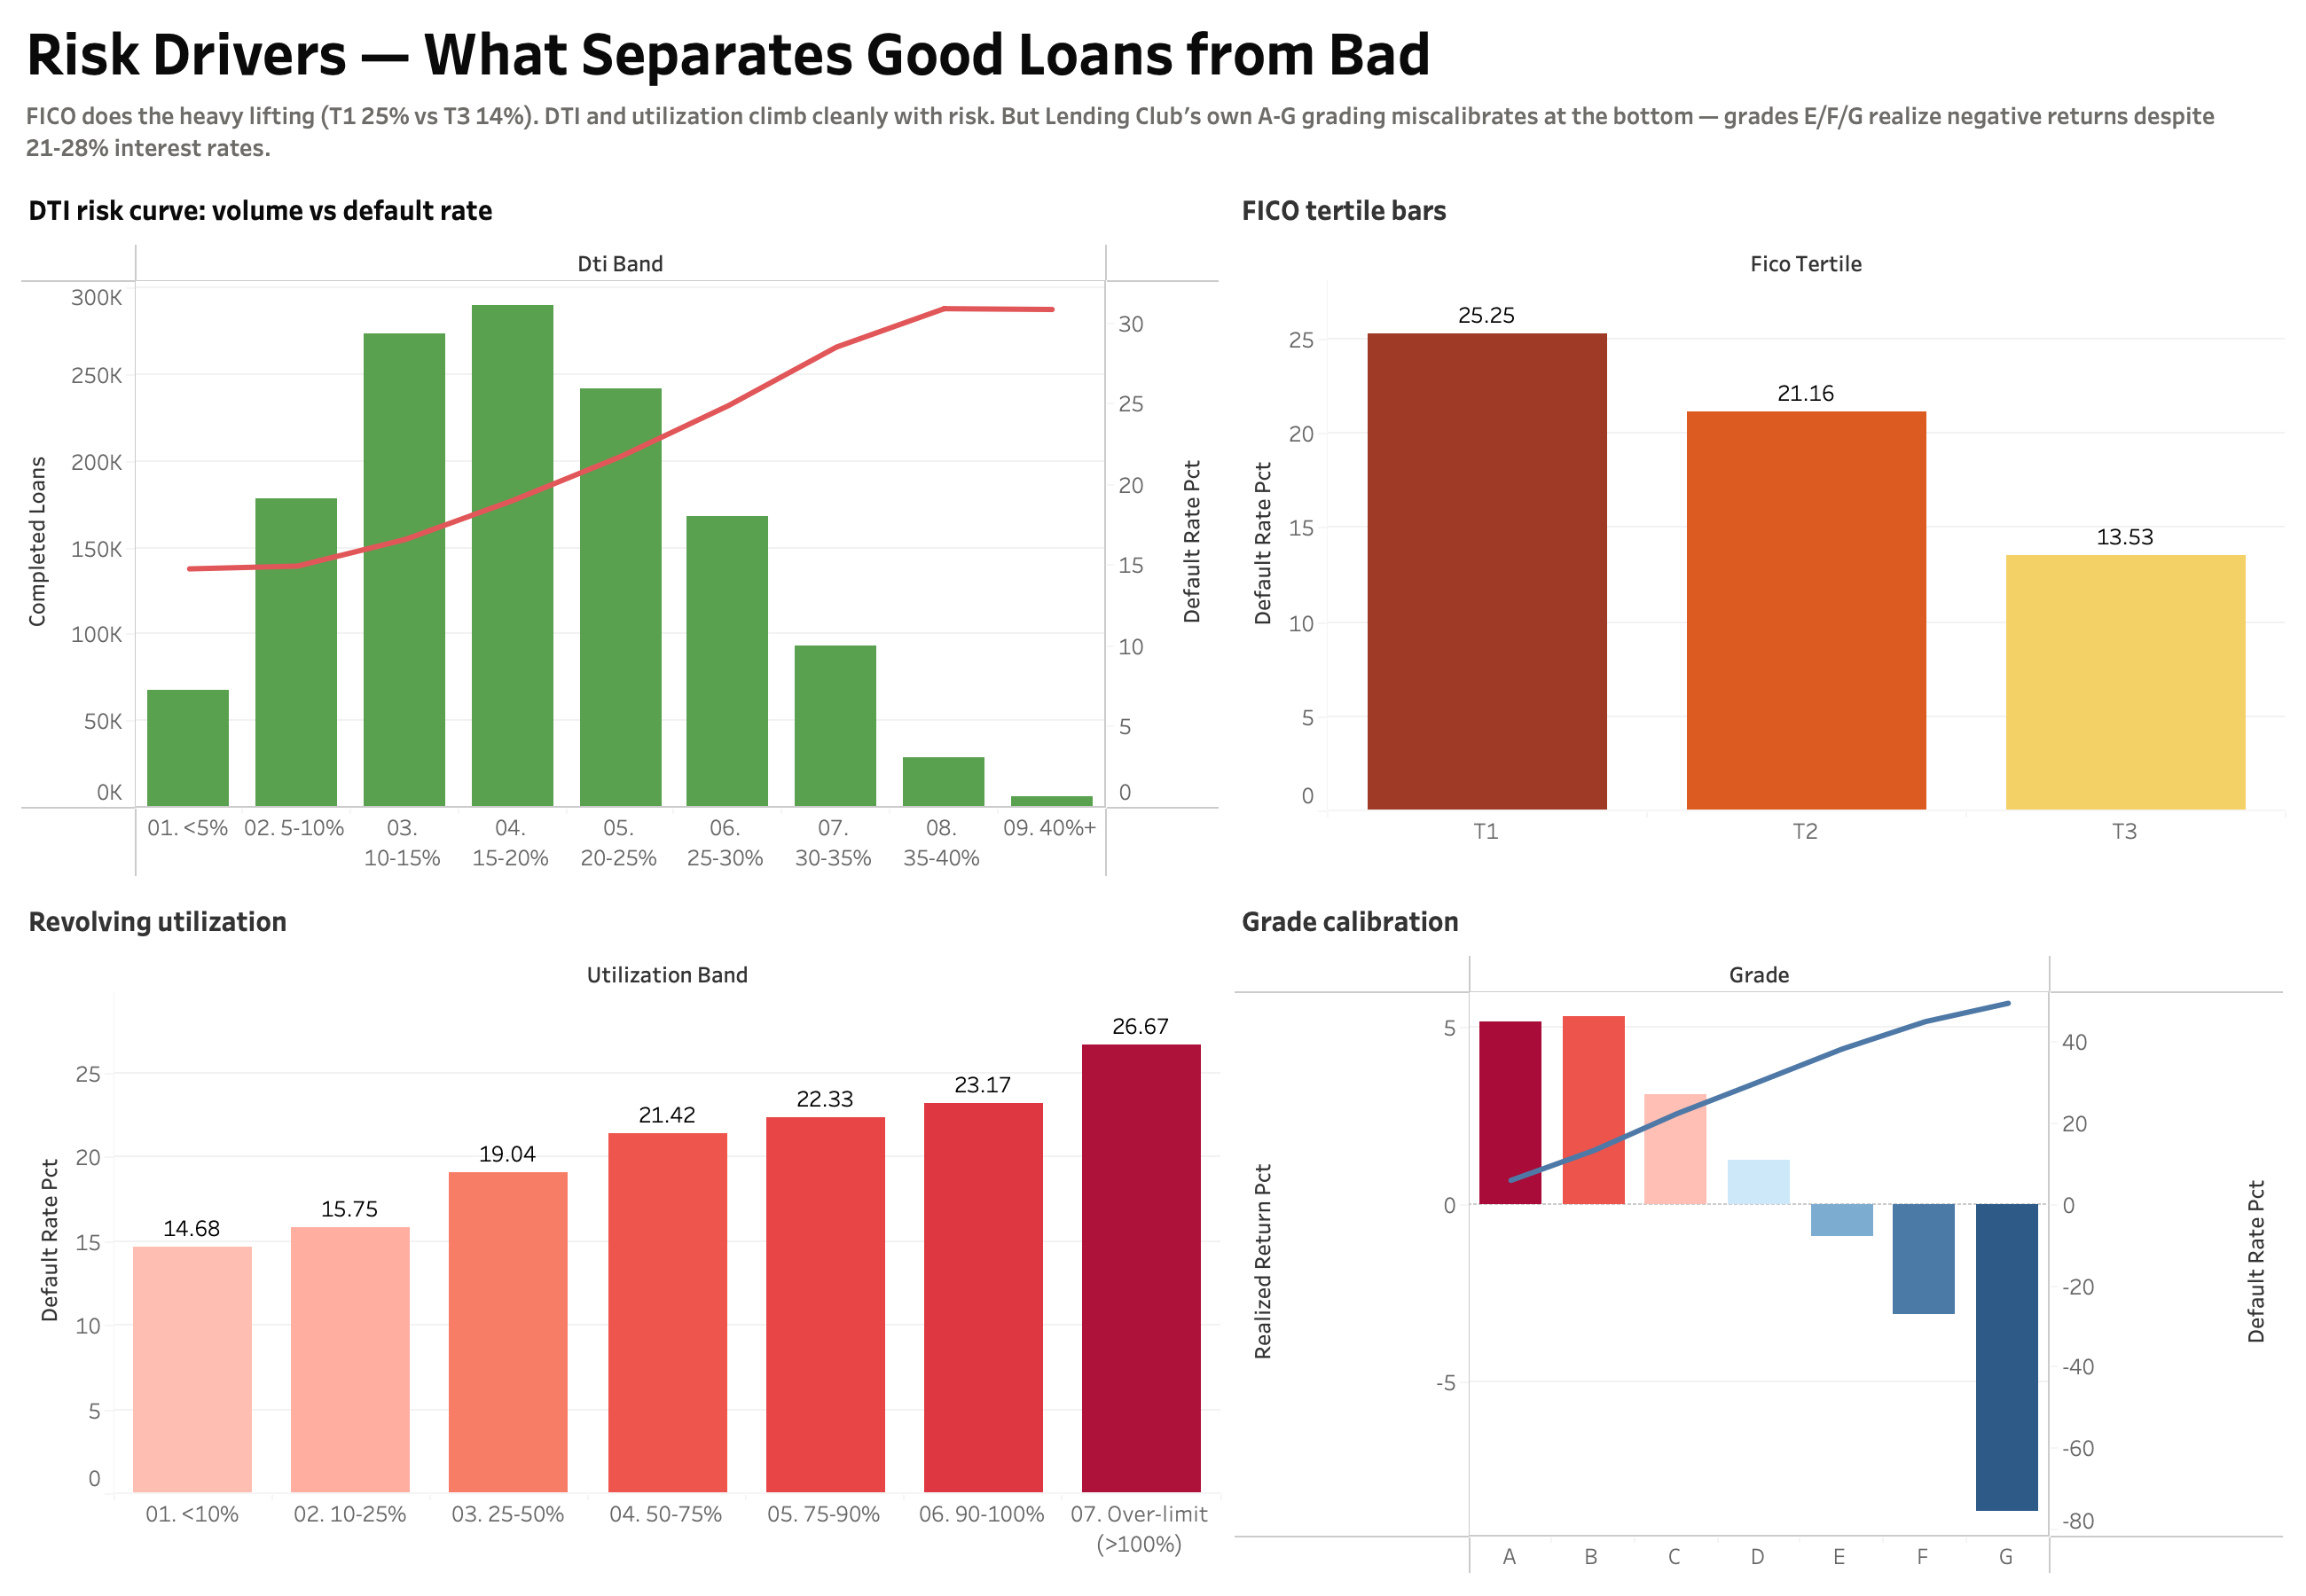

The dashboard page shown, as its layout file describes it:
{"tool":"tableau","page":{"name":"3. Risk Drivers","canvas":[1300,900],"ordinal":2},"visuals":[{"type":"title","box":[8,8,1284,42]},{"type":"text","box":[8,50,1284,48]},{"type":"worksheet","title":"DTI risk curve","mark":"Automatic","rows":["completed_loans","default_rate_pct"],"cols":["dti_band"],"box":[8,98,684,400.5]},{"type":"worksheet","title":"FICO tertile bars","mark":"Automatic","rows":["default_rate_pct"],"cols":["fico_tertile"],"box":[692,98,600,400.5]},{"type":"worksheet","title":"Revolving utilization","mark":"Automatic","rows":["default_rate_pct"],"cols":["utilization_band"],"box":[8,498.5,684,393.5]},{"type":"worksheet","title":"Grade calibration","mark":"Automatic","rows":["realized_return_pct","default_rate_pct"],"cols":["grade"],"box":[692,498.5,600,393.5]}]}

Visuals, with their boxes in screenshot pixels (x1, y1, x2, y2), scaled from the page's 1300x900 canvas onto the 2306x1596 screenshot:
title: 14:14:2292:89
text: 14:89:2292:174
"DTI risk curve" worksheet: 14:174:1228:884
"FICO tertile bars" worksheet: 1228:174:2292:884
"Revolving utilization" worksheet: 14:884:1228:1582
"Grade calibration" worksheet: 1228:884:2292:1582
